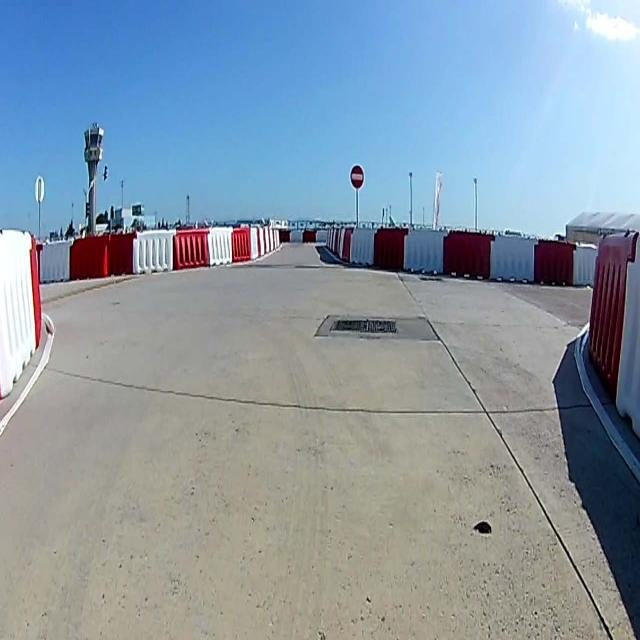girisyok: (350, 164, 363, 188)
